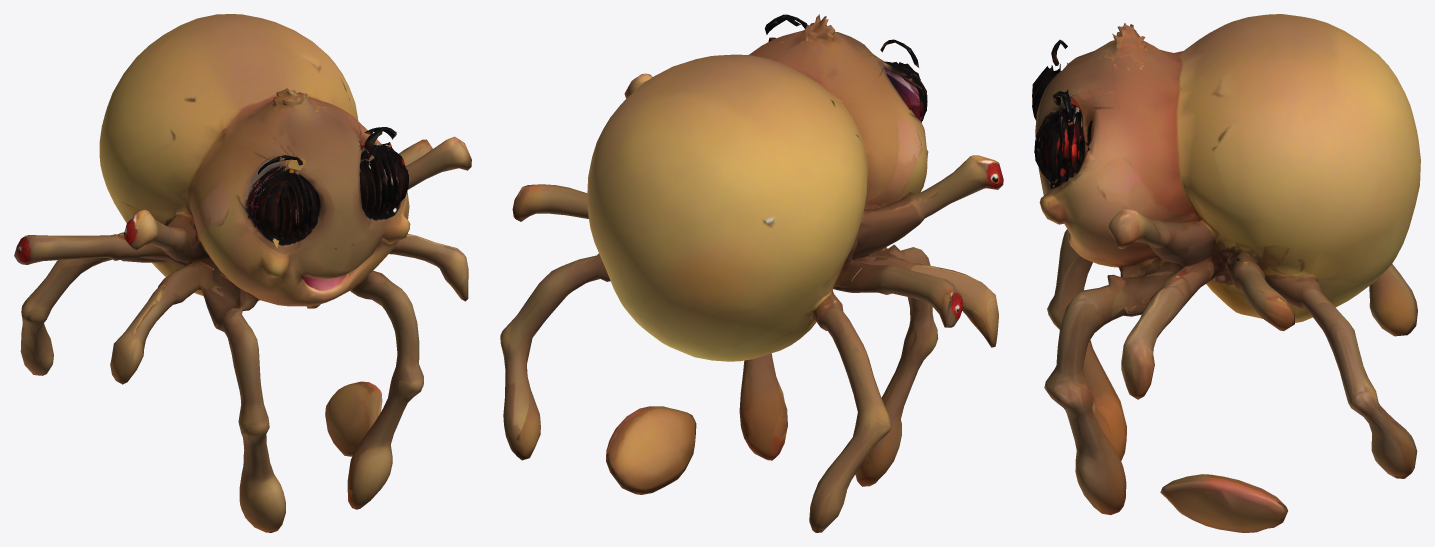
The model's file is spider.glb.
3 views of the same model, side by side, from view 1: azimuth 30°, elevation 25°; view 2: azimuth 150°, elevation 25°; view 3: azimuth 270°, elevation 25° (orthographic). The views are drawn at different scales.
Bounding box in the file's own units: 50161 × 51205 × 38503.
Materials: 1 (1 with a texture image).
